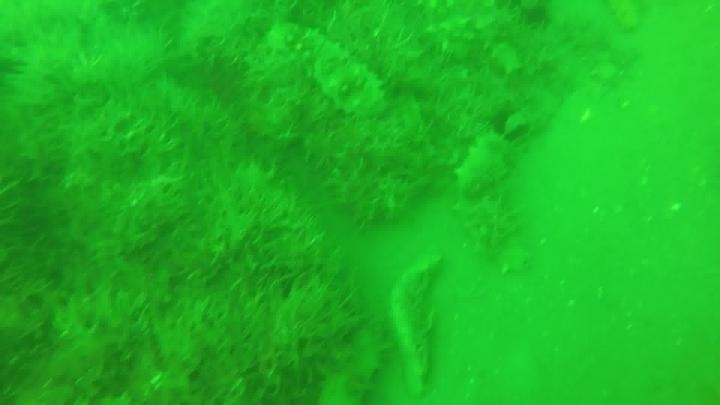holothurian: (451, 129, 537, 277), (279, 23, 389, 117), (381, 249, 443, 402)
